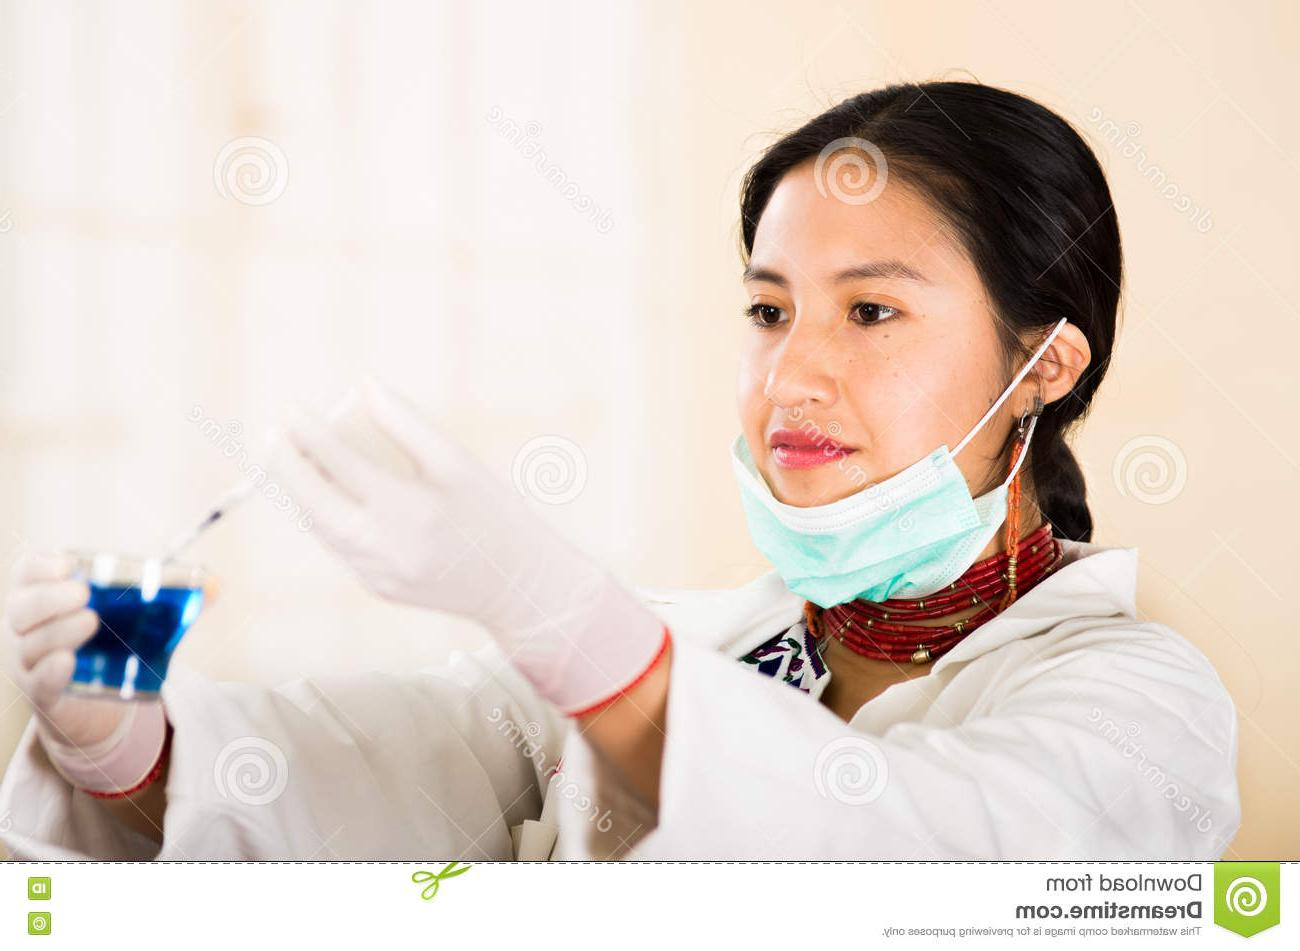mask_weared_incorrect: (724, 250, 951, 578)
